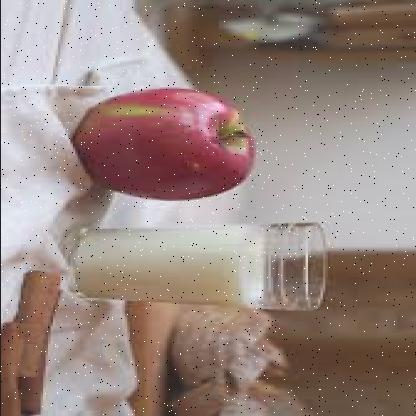apple: (76, 80, 252, 206)
